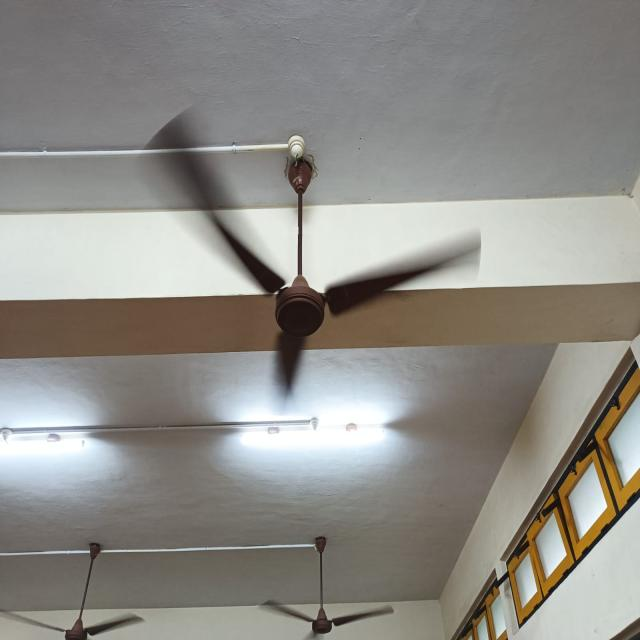fan_on: (146, 112, 481, 407), (2, 573, 146, 640), (258, 580, 395, 640)
tubelight_on: (234, 415, 388, 458), (0, 418, 92, 470)
